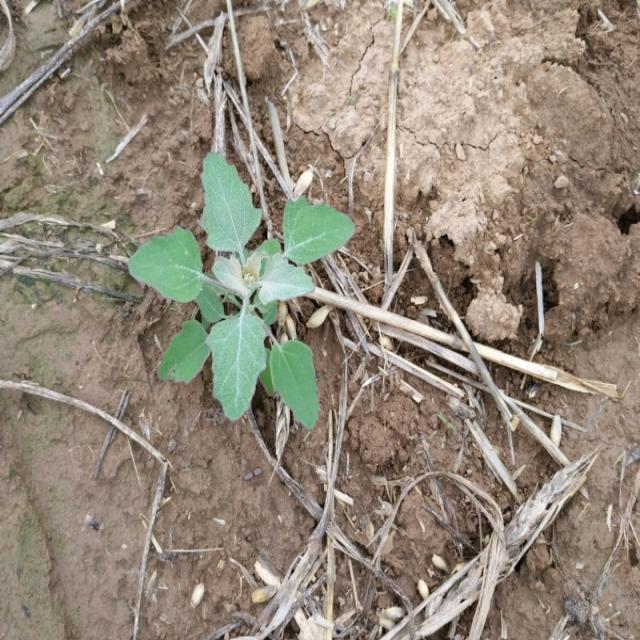goosefoots: (122, 138, 368, 410)
